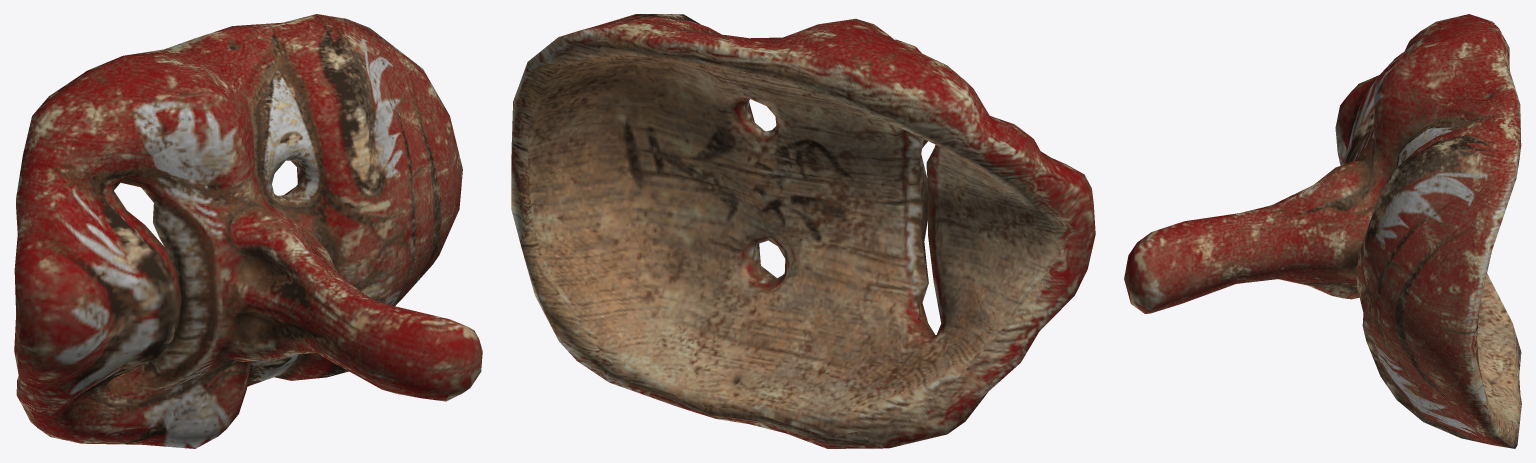
The model's file is F_TenguMask.fbx.
3 renders of one model, left to right at view 1: azimuth 30°, elevation 25°; view 2: azimuth 150°, elevation 25°; view 3: azimuth 270°, elevation 25°, orthographic. The views are drawn at different scales.
Visible parts, largest first — view 1: Tengu_low.001; view 2: Tengu_low.001; view 3: Tengu_low.001.
Boxes of the visible parts, <box> form: Tengu_low.001: <box>14,14,482,448</box>; Tengu_low.001: <box>511,14,1095,448</box>; Tengu_low.001: <box>1124,14,1521,448</box>.
Size of the model in its own units: 0.1555 by 0.1128 by 0.1187.
